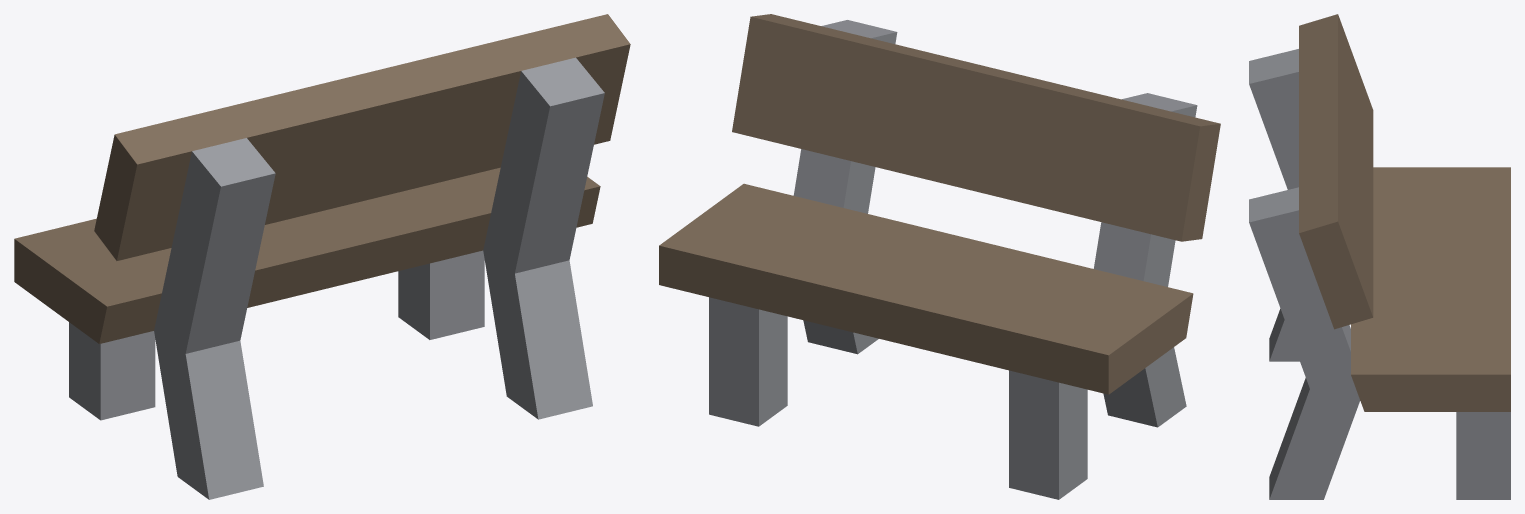
The model's file is bench.obj.
The picture shows the model from 3 angles, left to right: view 1: azimuth 30°, elevation 25°; view 2: azimuth 150°, elevation 25°; view 3: azimuth 270°, elevation 25°; orthographic projection. The views are drawn at different scales.
Bounding box in the file's own units: 0.6039 × 0.4091 × 0.3221.
